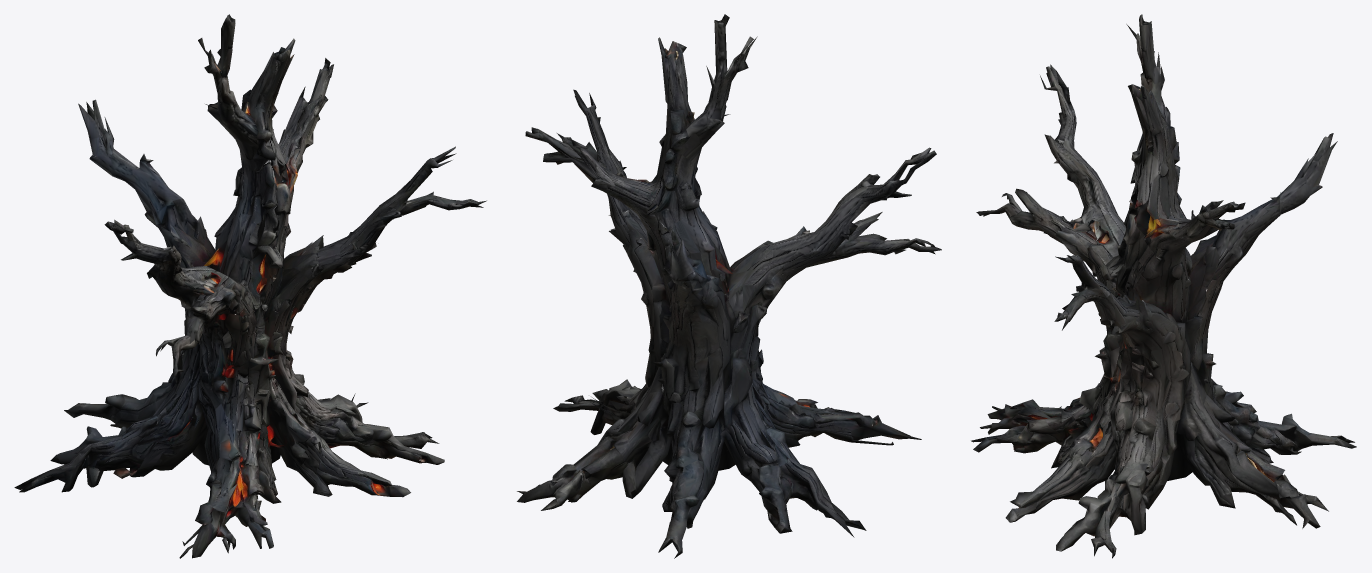
The model's file is f_charred_tree.glb.
3 views of the same model, side by side, from view 1: azimuth 30°, elevation 25°; view 2: azimuth 150°, elevation 25°; view 3: azimuth 270°, elevation 25° (orthographic).
Parts seen in each view (by area): view 1: tripo_node_59a2d4d6-bfa2-416a-9e2d-ef6a21a2dc2a; view 2: tripo_node_59a2d4d6-bfa2-416a-9e2d-ef6a21a2dc2a; view 3: tripo_node_59a2d4d6-bfa2-416a-9e2d-ef6a21a2dc2a.
Part boxes in pixels (x1,y1,x2,y2): tripo_node_59a2d4d6-bfa2-416a-9e2d-ef6a21a2dc2a: (14,14,486,558); tripo_node_59a2d4d6-bfa2-416a-9e2d-ef6a21a2dc2a: (517,14,941,558); tripo_node_59a2d4d6-bfa2-416a-9e2d-ef6a21a2dc2a: (971,14,1356,558).
Size of the model in its own units: 0.8741 by 0.9827 by 0.7543.
Materials: 1 (1 with a texture image).
